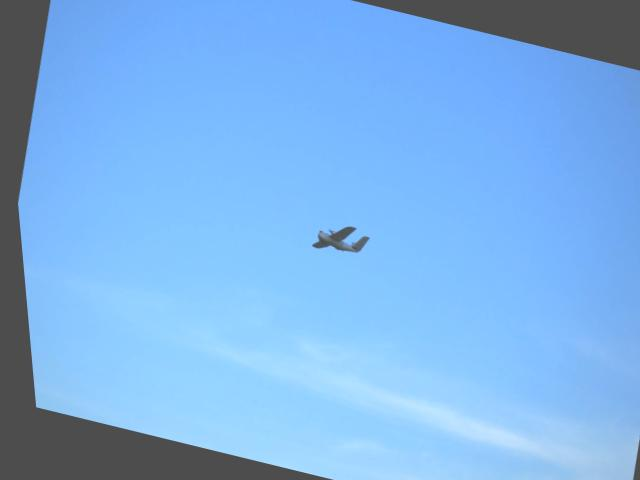plane: (303, 214, 367, 262)
